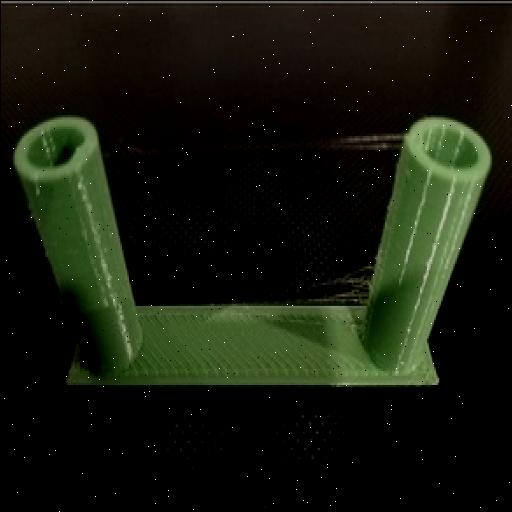stringing: (110, 124, 404, 170), (282, 252, 378, 335)
